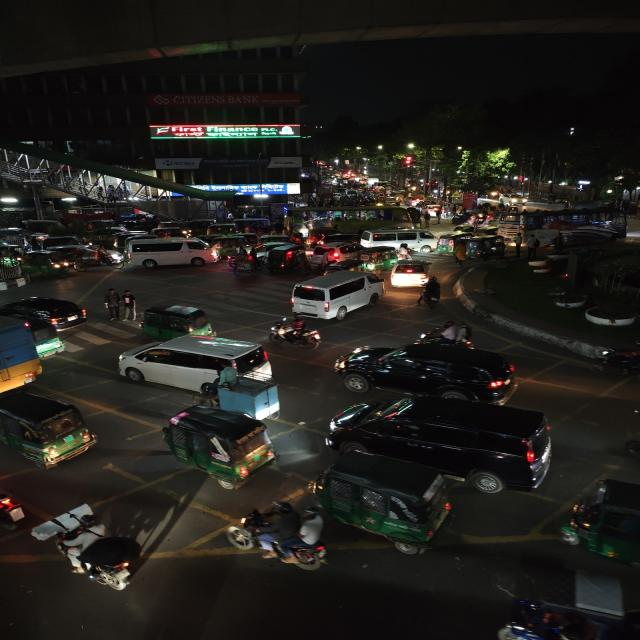bus: (494, 208, 629, 242), (284, 206, 416, 230)
car: (324, 392, 560, 494), (330, 341, 525, 403), (115, 334, 279, 396), (285, 270, 388, 322), (116, 236, 220, 270), (0, 294, 92, 330), (358, 225, 452, 253), (384, 258, 436, 290), (307, 244, 344, 266)
cng: (324, 453, 456, 552), (159, 405, 281, 489), (560, 471, 640, 576), (0, 389, 103, 468), (138, 301, 220, 341), (24, 318, 69, 362), (0, 242, 28, 294), (32, 247, 74, 275), (267, 246, 306, 274), (358, 248, 396, 272)
motorcycle: (50, 509, 148, 594), (234, 502, 333, 574), (268, 314, 326, 352), (408, 319, 480, 346), (418, 276, 444, 309), (396, 242, 415, 260)
pedestrian: (101, 286, 122, 320), (119, 288, 139, 320)
rickshaw: (71, 244, 125, 274), (0, 245, 29, 292), (226, 246, 270, 276)
truck: (0, 312, 44, 400)
